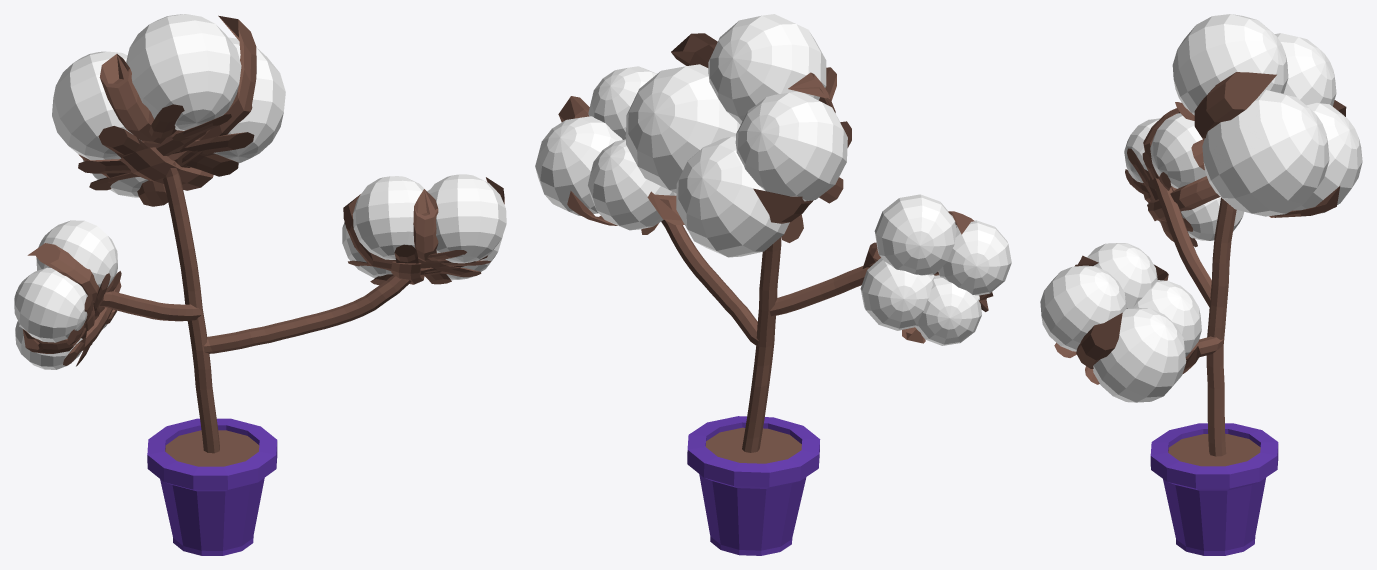
The model's file is cotton.fbx.
3 renders of one model, left to right at view 1: azimuth 30°, elevation 25°; view 2: azimuth 150°, elevation 25°; view 3: azimuth 270°, elevation 25°, orthographic. The views are drawn at different scales.
Parts seen in each view (by area): view 1: group_1488637496, mesh_901972478, mesh_922404893, mesh_993793630, group_478013943, mesh_528816977, mesh_1163863101, group_236579397, mesh_1584341828, mesh_1231850853, group_1016547631, group_1173174703 (+16 smaller); view 2: group_1488637496, mesh_993793630, mesh_1584341828, mesh_1832061339, mesh_901972478, mesh_1231850853, mesh_1200191819, mesh_803643392, mesh_1163863101, group_478013943, mesh_802937421, mesh_1461111707 (+7 smaller); view 3: group_1488637496, mesh_1584341828, mesh_901972478, mesh_1200191819, mesh_922404893, group_478013943, mesh_1832061339, mesh_993793630, mesh_1231850853, group_1173174703, mesh_528816977, mesh_803643392 (+8 smaller).
Boxes of the visible parts, left/top/right/bottom form: group_1488637496: left=147, top=418, right=277, bottom=555; mesh_901972478: left=126, top=14, right=241, bottom=130; mesh_922404893: left=428, top=174, right=506, bottom=263; mesh_993793630: left=52, top=51, right=141, bottom=160; group_478013943: left=163, top=161, right=219, bottom=453; mesh_528816977: left=352, top=176, right=426, bottom=259; mesh_1163863101: left=14, top=267, right=87, bottom=342; group_236579397: left=203, top=275, right=411, bottom=353; mesh_1584341828: left=213, top=37, right=285, bottom=163; mesh_1231850853: left=36, top=220, right=117, bottom=287; group_1016547631: left=99, top=54, right=180, bottom=151; group_1173174703: left=168, top=15, right=256, bottom=167; group_1488637496: left=687, top=416, right=820, bottom=555; mesh_993793630: left=735, top=91, right=847, bottom=201; mesh_1584341828: left=626, top=64, right=740, bottom=193; mesh_1832061339: left=676, top=136, right=789, bottom=257; mesh_901972478: left=708, top=14, right=826, bottom=124; mesh_1231850853: left=874, top=194, right=956, bottom=275; mesh_1200191819: left=535, top=116, right=622, bottom=215; mesh_803643392: left=588, top=139, right=676, bottom=230; mesh_1163863101: left=938, top=220, right=1011, bottom=295; group_478013943: left=742, top=237, right=781, bottom=452; mesh_802937421: left=860, top=258, right=934, bottom=330; mesh_1461111707: left=915, top=275, right=981, bottom=345; group_1488637496: left=1150, top=423, right=1278, bottom=555; mesh_1584341828: left=1202, top=90, right=1329, bottom=216; mesh_901972478: left=1172, top=14, right=1288, bottom=115; mesh_1200191819: left=1093, top=308, right=1185, bottom=402; mesh_922404893: left=1040, top=265, right=1126, bottom=351; group_478013943: left=1206, top=197, right=1236, bottom=456; mesh_1832061339: left=1292, top=102, right=1362, bottom=213; mesh_993793630: left=1274, top=33, right=1336, bottom=106; mesh_1231850853: left=1150, top=113, right=1206, bottom=188; group_1173174703: left=1194, top=72, right=1276, bottom=140; mesh_528816977: left=1087, top=243, right=1157, bottom=308; mesh_803643392: left=1132, top=280, right=1201, bottom=356.
Size of the model in its own units: 242 by 257 by 147.
